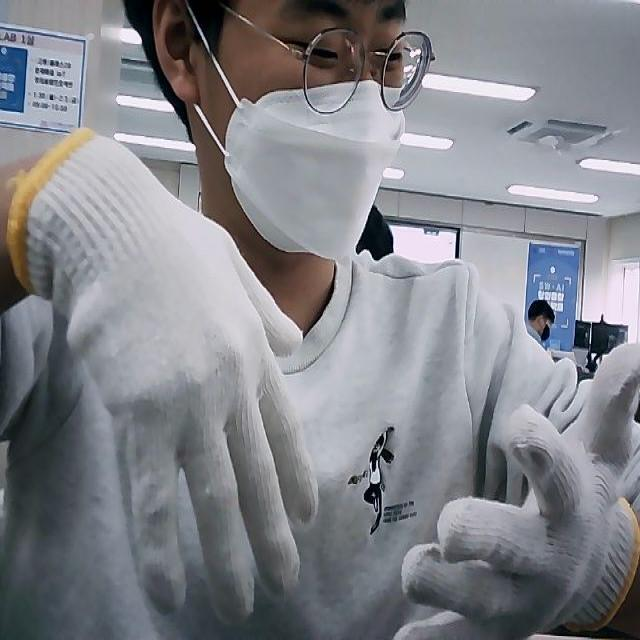GLOVE: (12, 129, 322, 624), (395, 341, 640, 640)
